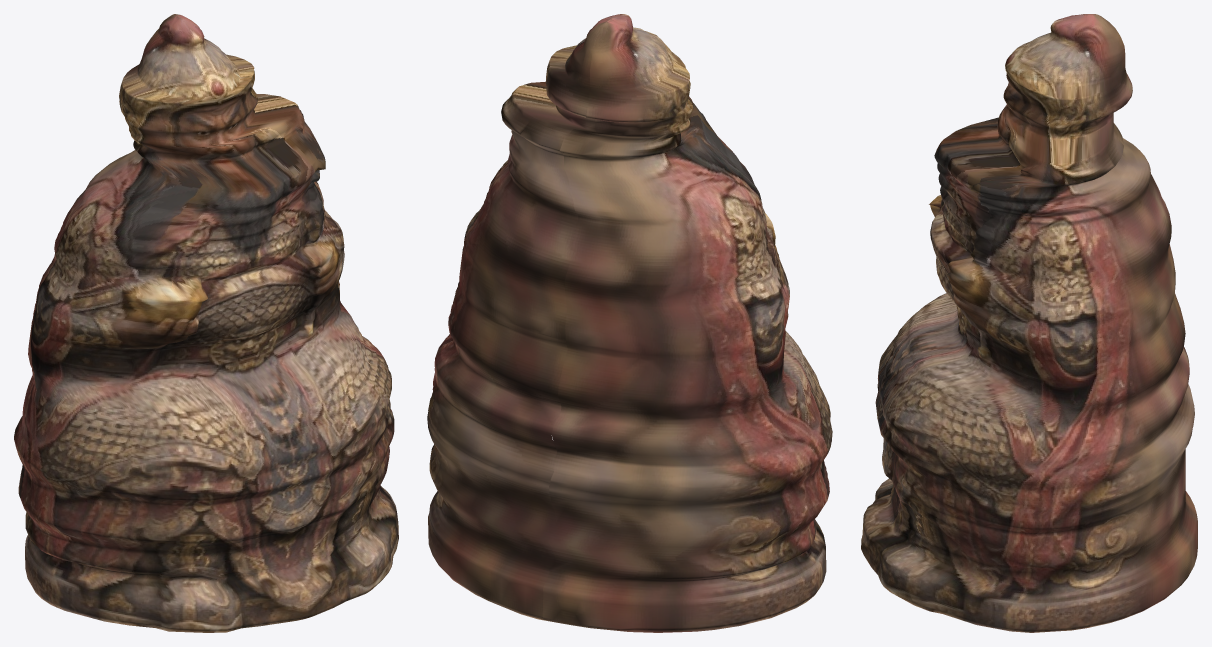
Rendered from zhao-gongming.glb.
The picture shows the model from 3 angles, left to right: view 1: azimuth 30°, elevation 25°; view 2: azimuth 150°, elevation 25°; view 3: azimuth 270°, elevation 25°; orthographic projection. The views are drawn at different scales.
Visible parts, largest first — view 1: zhao-gongming; view 2: zhao-gongming; view 3: zhao-gongming.
Part boxes in pixels (x1,y1,x2,y2): zhao-gongming: (14, 14, 398, 632); zhao-gongming: (427, 14, 832, 632); zhao-gongming: (861, 14, 1197, 632).
Size of the model in its own units: 0.7048 by 1 by 0.5719.
1 material, 1 textured.
